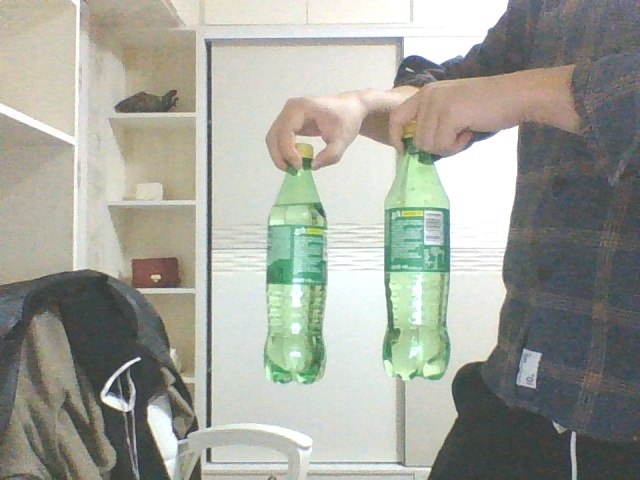Sprite: (382, 122, 451, 379), (263, 143, 327, 384)
